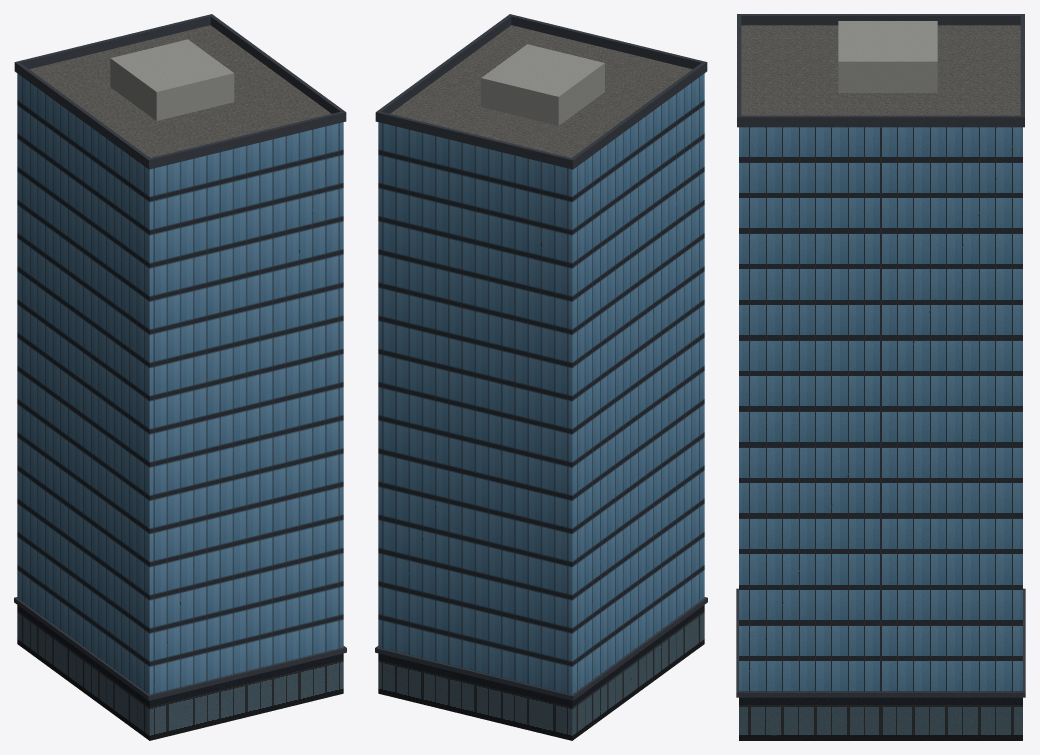
File: glass_blue_tower.glb
3 renders of one model, left to right at view 1: azimuth 30°, elevation 25°; view 2: azimuth 150°, elevation 25°; view 3: azimuth 270°, elevation 25°, orthographic. The views are drawn at different scales.
Visible parts, largest first — view 1: glass_blue_tower; view 2: glass_blue_tower; view 3: glass_blue_tower.
Boxes of the visible parts, x1,y1,x2,y2 form: glass_blue_tower: (14, 14, 346, 740); glass_blue_tower: (375, 14, 707, 740); glass_blue_tower: (736, 14, 1025, 740).
Size of the model in its own units: 22.5 by 65.3 by 26.5.
Materials: 5 (5 with a texture image).
